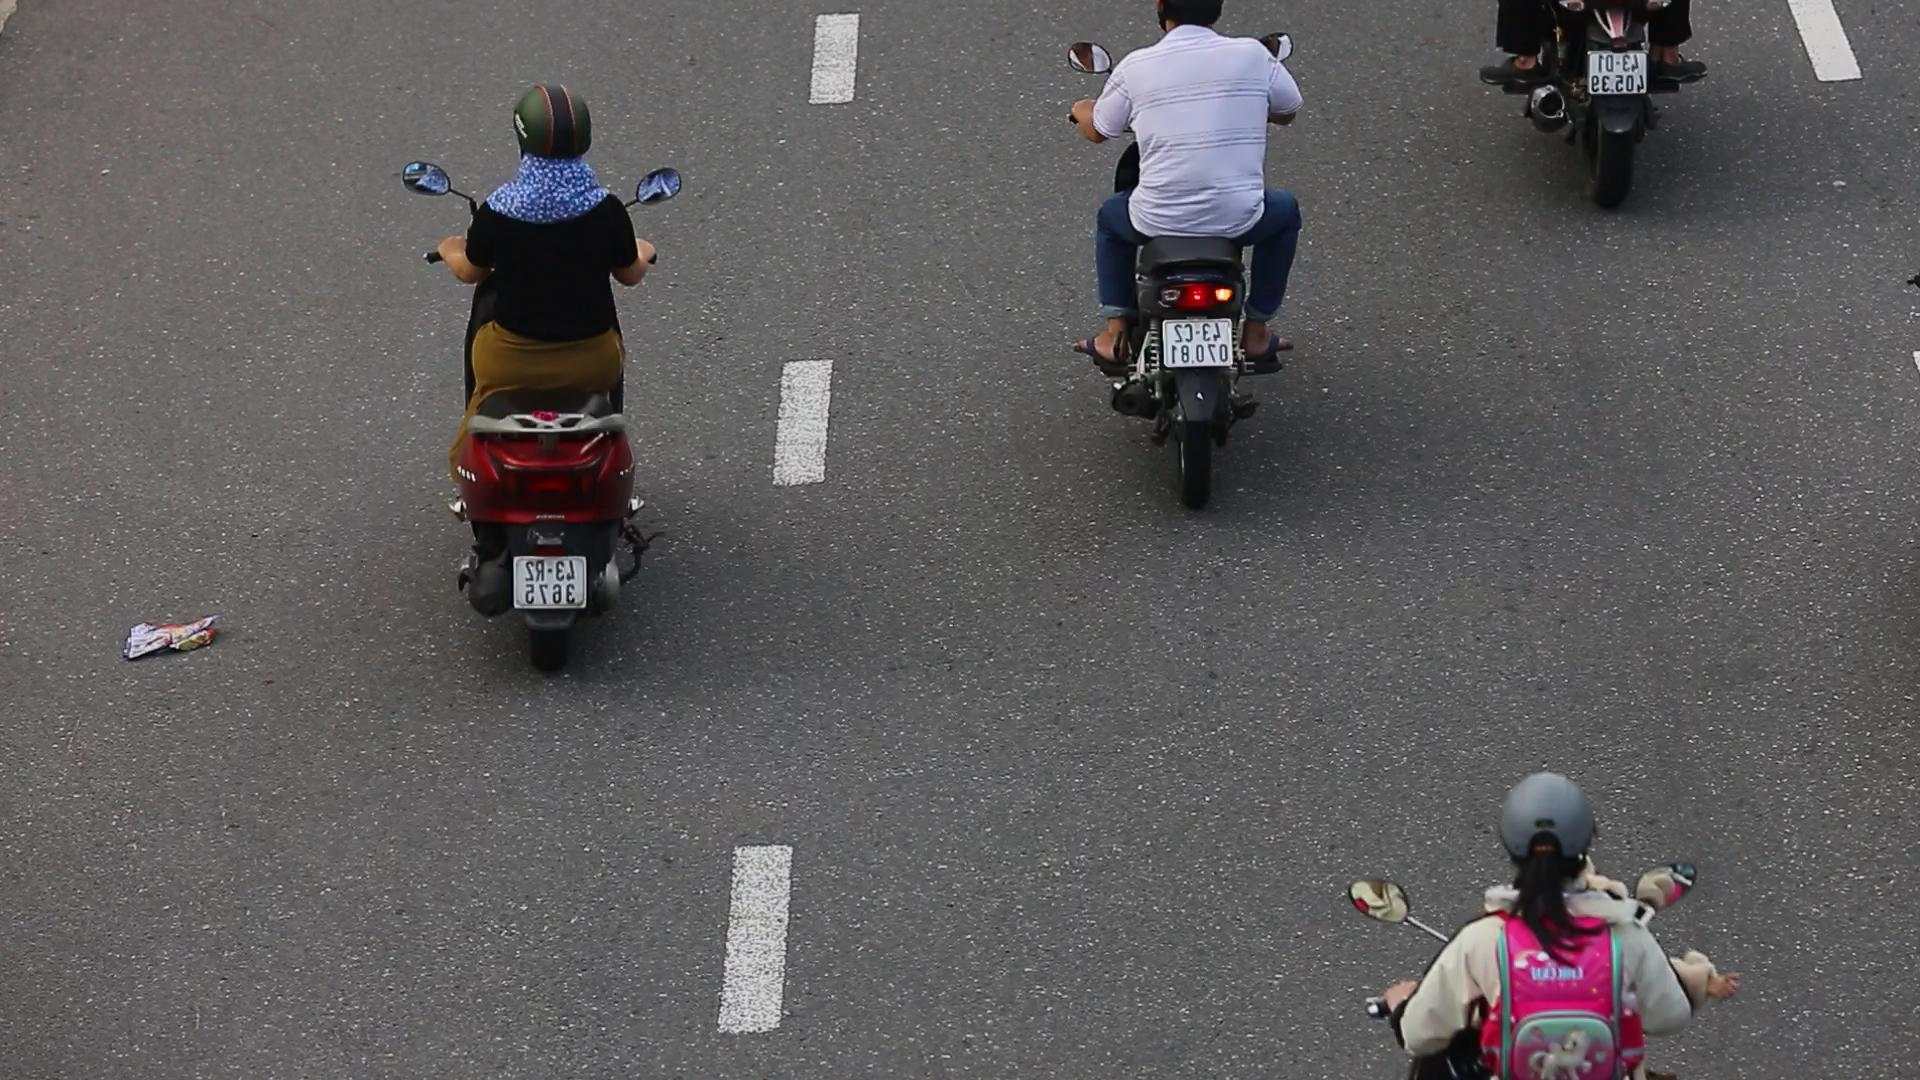motobike: (405, 70, 691, 682)
